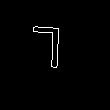L_S: (41, 29, 74, 80)
